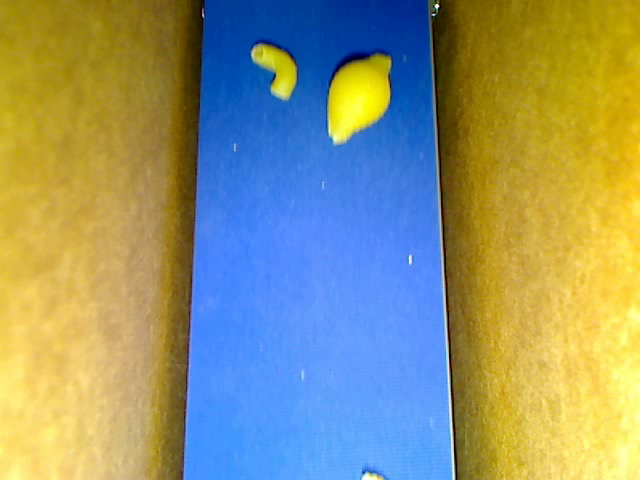elbow: (250, 43, 297, 99)
shell: (327, 53, 391, 144)
